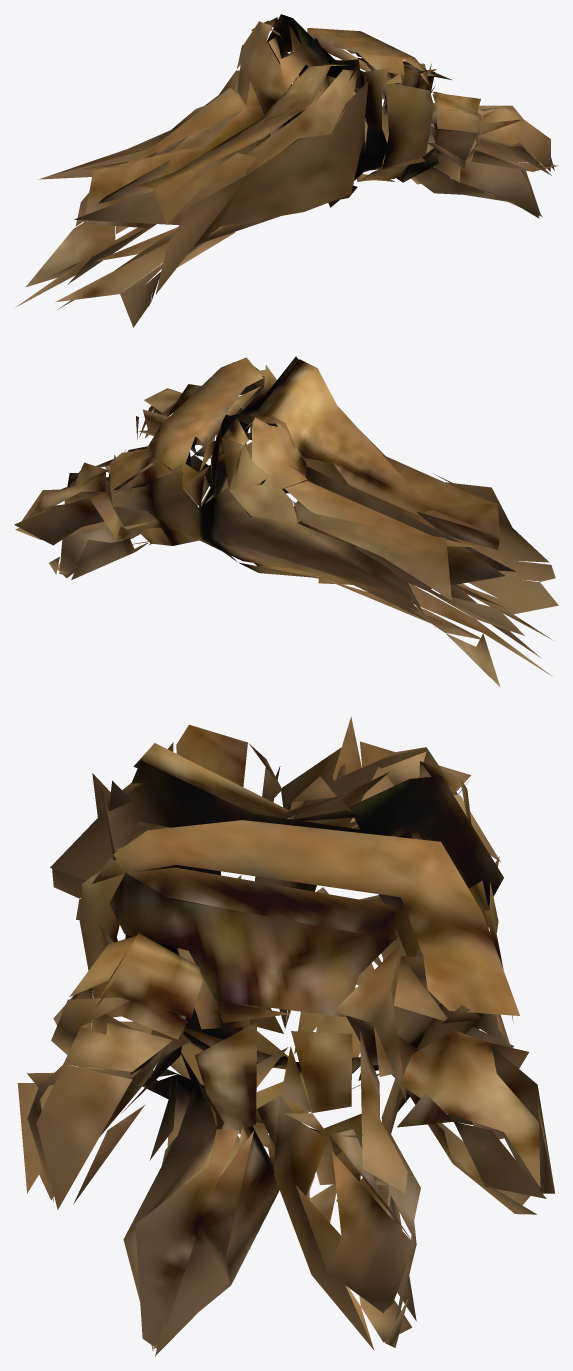
The model's file is dino_leg.glb.
3 views of the same model, one above another, from view 1: azimuth 30°, elevation 25°; view 2: azimuth 150°, elevation 25°; view 3: azimuth 270°, elevation 25° (orthographic). The views are drawn at different scales.
Parts seen in each view (by area): view 1: dino_fossil.002_part2; view 2: dino_fossil.002_part2; view 3: dino_fossil.002_part2.
Boxes of the visible parts, x1=… form: dino_fossil.002_part2: x1=15, y1=14, x2=558, y2=327; dino_fossil.002_part2: x1=14, y1=356, x2=558, y2=687; dino_fossil.002_part2: x1=17, y1=716, x2=554, y2=1356.
Size of the model in its own units: 1.14 by 0.4742 by 0.5458.
1 material, 1 textured.
